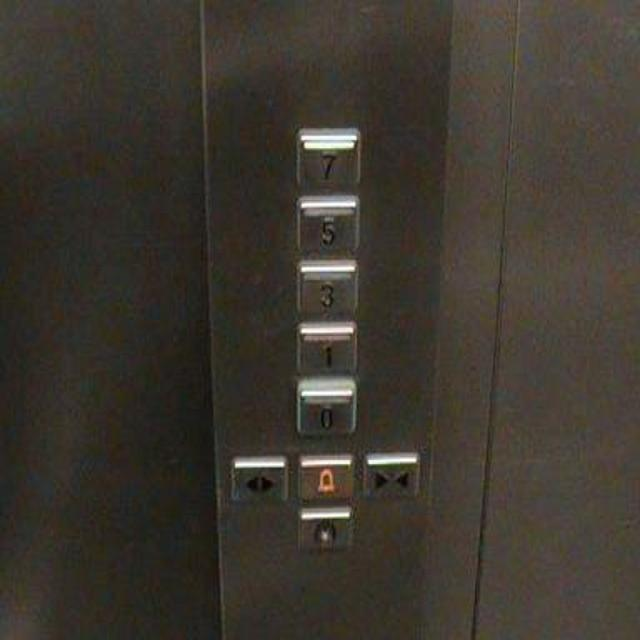0: (294, 377, 358, 435)
1: (294, 321, 358, 372)
3: (295, 259, 358, 316)
5: (296, 196, 358, 255)
7: (295, 126, 361, 190)
alarm: (295, 451, 354, 501)
bt_keyhole: (296, 505, 354, 555)
close: (361, 449, 422, 503)
open: (229, 454, 287, 506)
